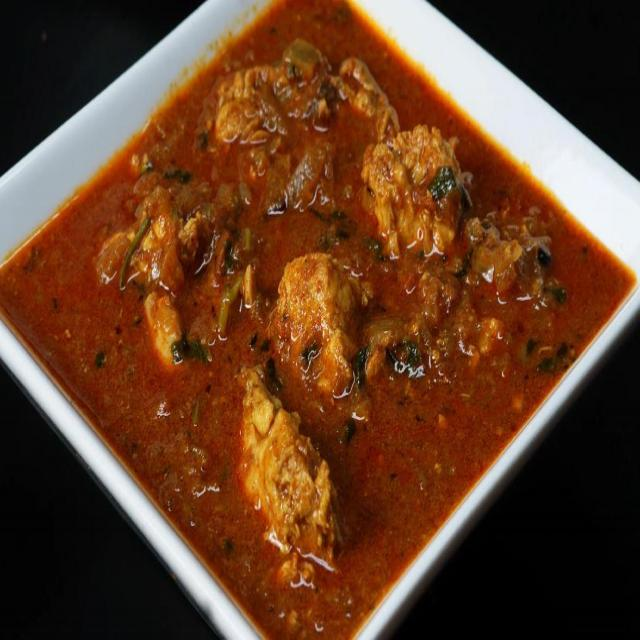chicken: (4, 0, 629, 634)
